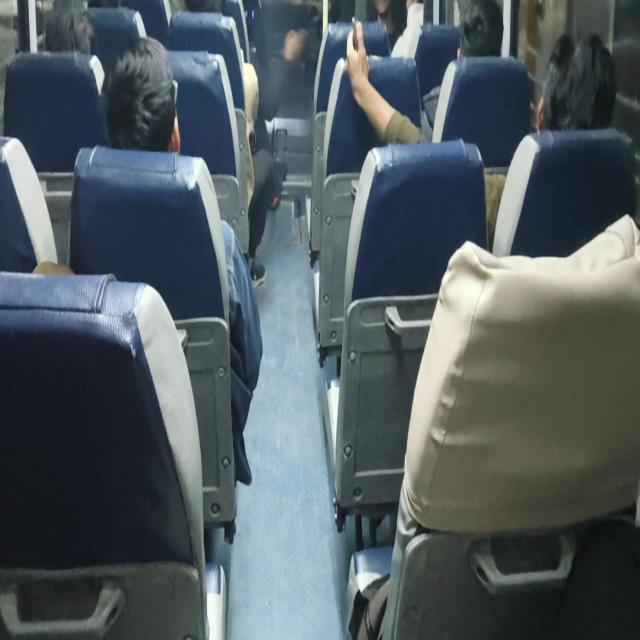person: (32, 35, 264, 486), (487, 31, 617, 250), (345, 0, 504, 146), (422, 0, 504, 132), (345, 19, 426, 146), (100, 35, 181, 153), (535, 31, 617, 132), (456, 0, 504, 58), (44, 6, 96, 56), (390, 0, 424, 59), (373, 0, 406, 52)
